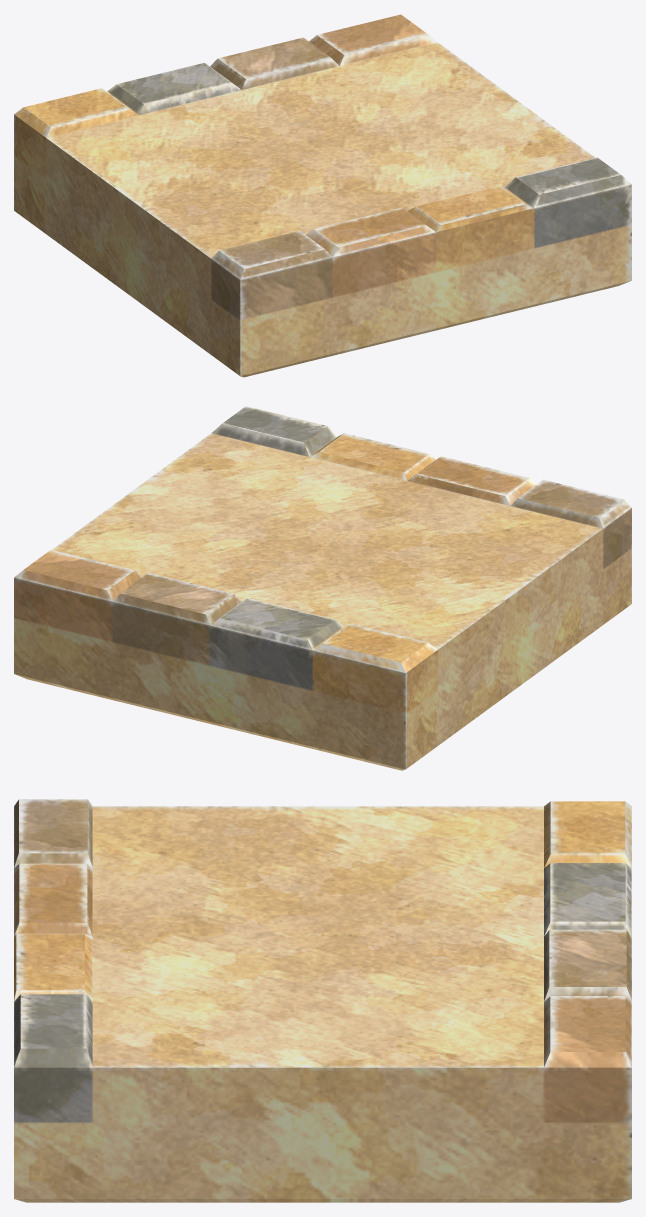
The model's file is Baldosa Flotante.fbx.
3 renders of one model, top to bottom at view 1: azimuth 30°, elevation 25°; view 2: azimuth 150°, elevation 25°; view 3: azimuth 270°, elevation 25°, orthographic. The views are drawn at different scales.
Visible parts, largest first — view 1: Cube.001; view 2: Cube.001; view 3: Cube.001.
Boxes of the visible parts, left/top/right/bottom form: Cube.001: left=14, top=14, right=631, bottom=377; Cube.001: left=14, top=406, right=631, bottom=770; Cube.001: left=14, top=799, right=631, bottom=1202.
Size of the model in its own units: 200 by 55.01 by 200.
Materials: 1 (1 with a texture image).
